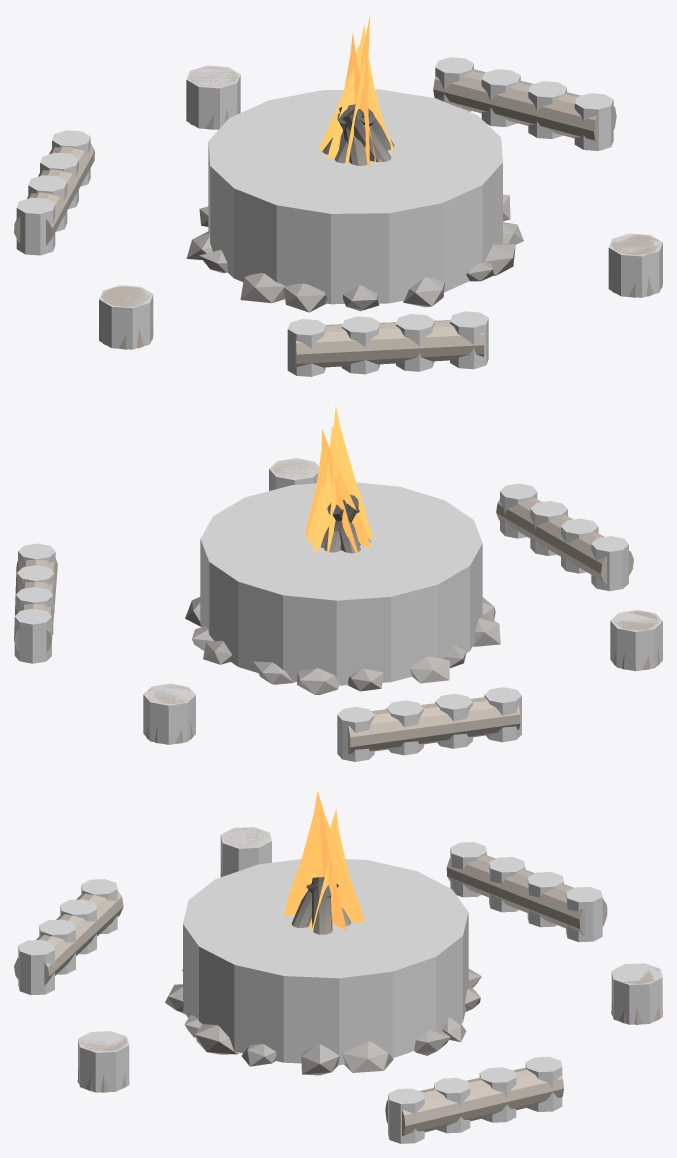
Rendered from prop_bonfire_main.glb.
3 renders of one model, top to bottom at view 1: azimuth 30°, elevation 25°; view 2: azimuth 150°, elevation 25°; view 3: azimuth 270°, elevation 25°, orthographic. The views are drawn at different scales.
Parts seen in each view (by area): view 1: col_fire, seats, ring_stones, flames, col_seat_3, col_seat_5, col_seat_4, log_stack, col_seat_1_p3, col_seat_0_p0, col_seat_2_p3, col_seat_2_p0 (+8 smaller); view 2: col_fire, seats, ring_stones, flames, col_seat_3, col_seat_4, col_seat_0_p3, col_seat_2_p0, col_seat_1_p0, col_seat_5, col_seat_1_p3, log_stack (+8 smaller); view 3: col_fire, seats, ring_stones, flames, col_seat_5, col_seat_3, col_seat_4, col_seat_2_p3, log_stack, col_seat_1_p0, col_seat_0_p0, col_seat_0_p3 (+8 smaller).
Part boxes in pixels (left/top/right/bottom): col_fire: left=208, top=89, right=502, bottom=304; seats: left=14, top=66, right=662, bottom=367; ring_stones: left=186, top=194, right=523, bottom=312; flames: left=318, top=15, right=394, bottom=167; col_seat_3: left=186, top=65, right=240, bottom=129; col_seat_5: left=608, top=233, right=662, bottom=297; col_seat_4: left=99, top=285, right=153, bottom=349; log_stack: left=322, top=104, right=394, bottom=165; col_seat_1_p3: left=16, top=197, right=55, bottom=255; col_seat_0_p0: left=574, top=93, right=613, bottom=150; col_seat_2_p3: left=450, top=311, right=488, bottom=369; col_seat_2_p0: left=287, top=319, right=326, bottom=376; col_fire: left=200, top=482, right=482, bottom=685; seats: left=14, top=459, right=659, bottom=754; ring_stones: left=185, top=597, right=500, bottom=695; flames: left=305, top=405, right=372, bottom=553; col_seat_3: left=143, top=683, right=195, bottom=744; col_seat_4: left=610, top=610, right=662, bottom=671; col_seat_0_p3: left=14, top=608, right=51, bottom=663; col_seat_2_p0: left=591, top=536, right=628, bottom=590; col_seat_1_p0: left=337, top=707, right=374, bottom=761; col_seat_5: left=269, top=458, right=318, bottom=490; col_seat_1_p3: left=484, top=687, right=521, bottom=742; log_stack: left=321, top=494, right=370, bottom=553; col_fire: left=183, top=859, right=468, bottom=1064; seats: left=14, top=828, right=662, bottom=1136; ring_stones: left=165, top=969, right=481, bottom=1075; flames: left=284, top=791, right=364, bottom=933; col_seat_5: left=78, top=1031, right=129, bottom=1092; col_seat_3: left=611, top=963, right=662, bottom=1024; col_seat_4: left=220, top=827, right=271, bottom=876; col_seat_2_p3: left=18, top=940, right=54, bottom=995; log_stack: left=291, top=877, right=351, bottom=934; col_seat_1_p0: left=566, top=887, right=602, bottom=942; col_seat_0_p0: left=388, top=1088, right=424, bottom=1143; col_seat_0_p3: left=525, top=1056, right=562, bottom=1111.
Size of the model in its own units: 6.92 by 2.67 by 6.78.
